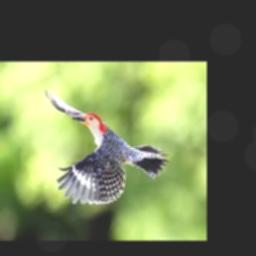Woodpecker: (44, 87, 168, 204)
